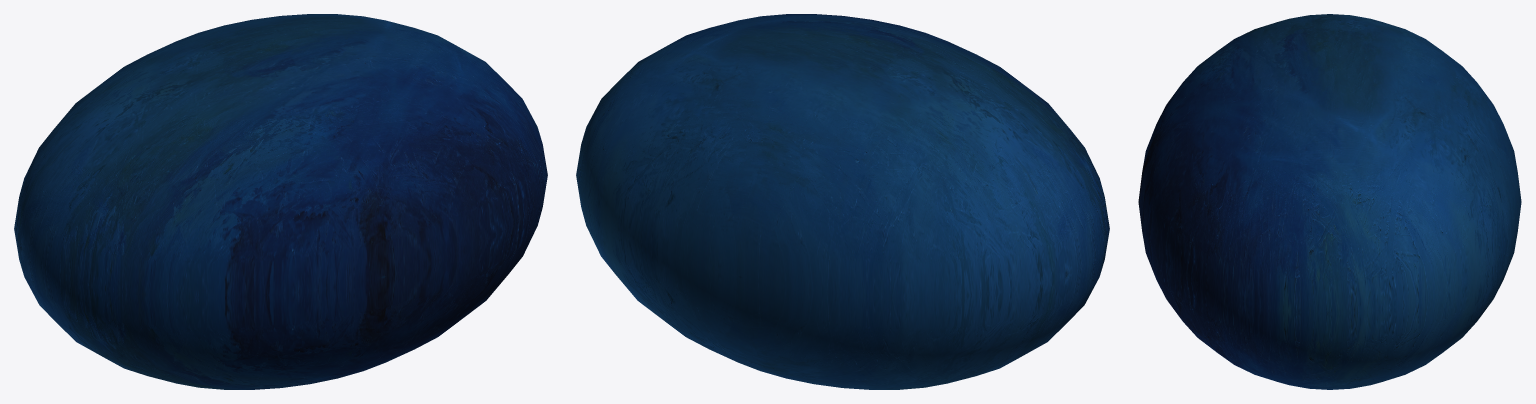
The model's file is marine2.FBX.
3 views of the same model, side by side, from view 1: azimuth 30°, elevation 25°; view 2: azimuth 150°, elevation 25°; view 3: azimuth 270°, elevation 25° (orthographic). The views are drawn at different scales.
Visible parts, largest first — view 1: Sphère002; view 2: Sphère002; view 3: Sphère002.
Boxes of the visible parts, x1,y1,x2,y2 form: Sphère002: [14, 14, 547, 389]; Sphère002: [576, 14, 1109, 389]; Sphère002: [1138, 14, 1521, 389].
Bounding box in the file's own units: 5.55 × 3.49 × 4.
1 material, 1 textured.
